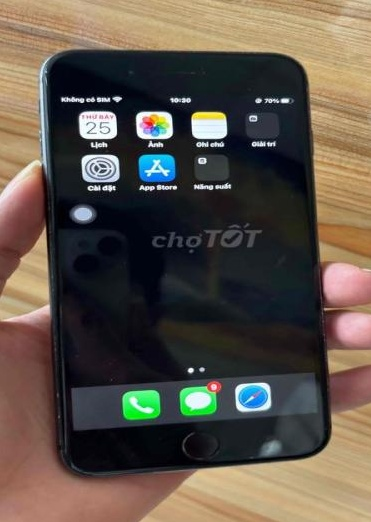scratch: (48, 383, 77, 473), (29, 313, 73, 370), (169, 52, 217, 82), (25, 116, 49, 163), (37, 62, 66, 95), (240, 83, 262, 101), (241, 447, 258, 469), (65, 348, 86, 364), (99, 367, 116, 385)
